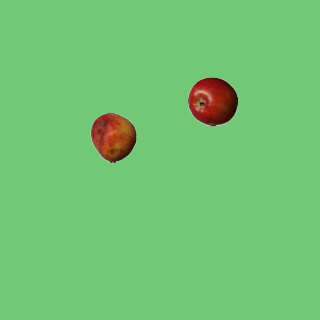Apple Braeburn: (187, 76, 237, 126)
Peach: (88, 112, 138, 162)
